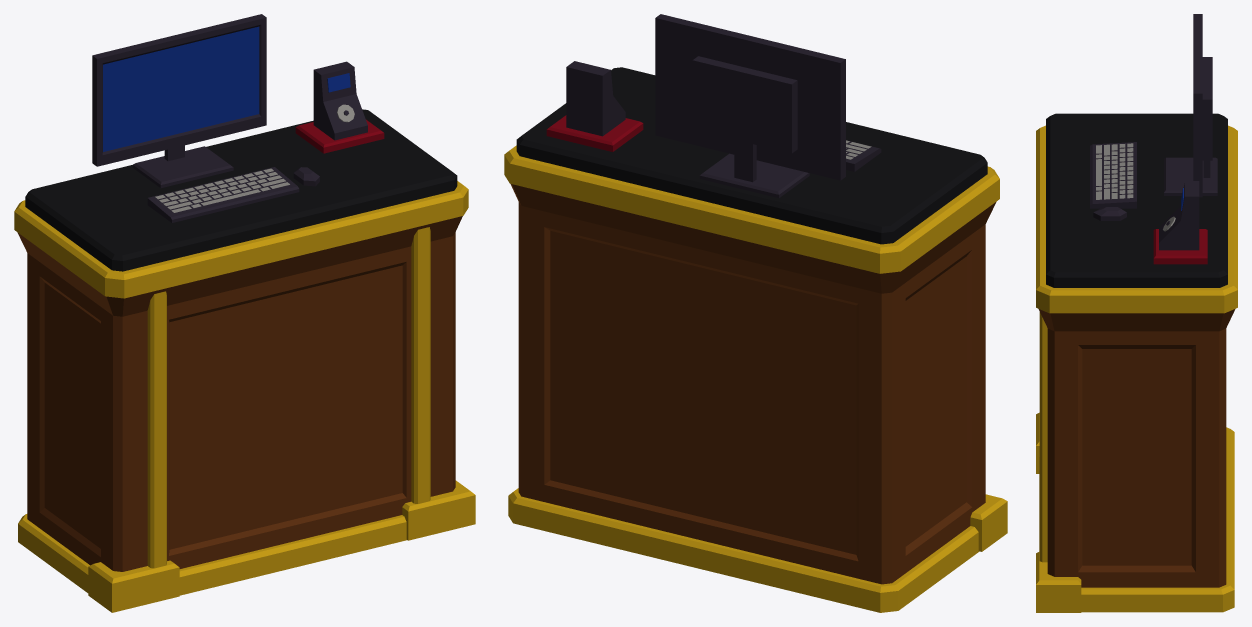
Rendered from pit-podium-c70397.glb.
The picture shows the model from 3 angles, left to right: view 1: azimuth 30°, elevation 25°; view 2: azimuth 150°, elevation 25°; view 3: azimuth 270°, elevation 25°; orthographic projection. The views are drawn at different scales.
Visible parts, largest first — view 1: podium; view 2: podium; view 3: podium.
Boxes of the visible parts, x1=… form: podium: x1=14, y1=14, x2=475, y2=612; podium: x1=504, y1=14, x2=1007, y2=612; podium: x1=1036, y1=14, x2=1237, y2=612.
Bounding box in the file's own units: 1.2 × 1.51 × 0.6.
